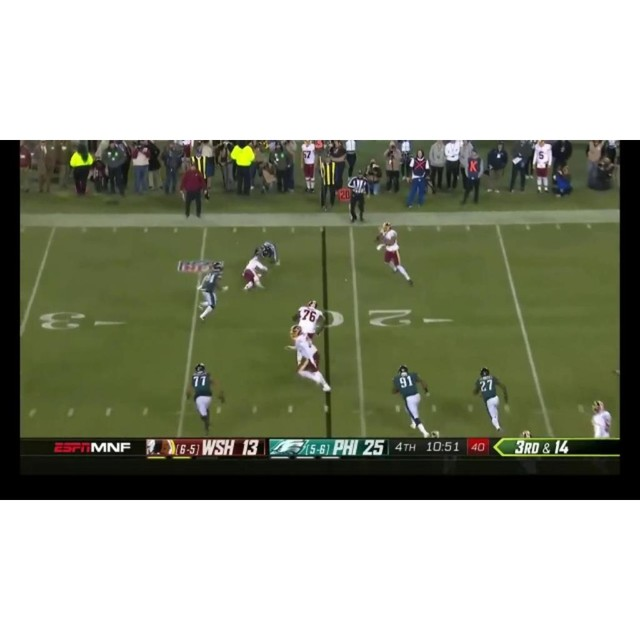american-football-player: (287, 323, 332, 396), (392, 366, 434, 438), (187, 363, 224, 434), (375, 221, 412, 287), (473, 367, 507, 432), (241, 241, 276, 291), (196, 262, 224, 321), (294, 300, 325, 339), (590, 399, 612, 438)
referee: (348, 172, 370, 223)
